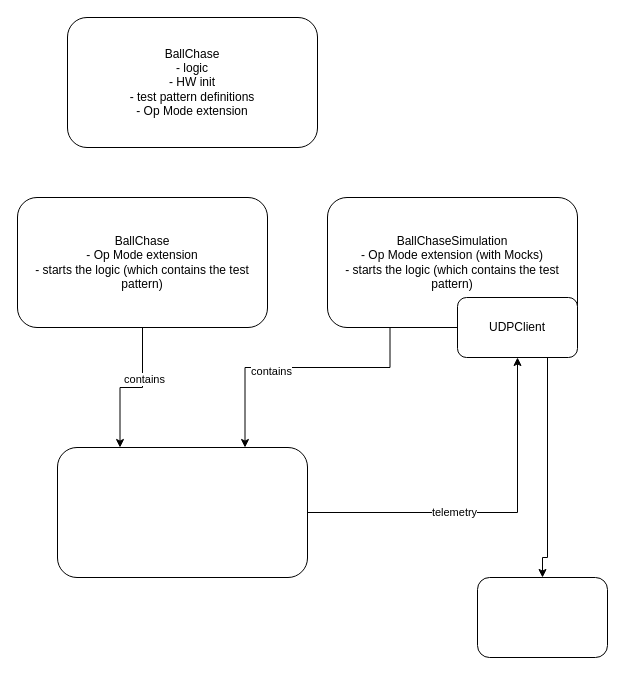
Some shapes in this 625 by 675 pixel diagram are drawn without their labels. The shapes that lost their labels are listed below. From the top down, each one's box as (x1, y1, x2, y2) in pixels, then its label:
(56, 446, 308, 578): BallChaseLogic - Autonomous Logic - HW initialization - Test Pattern Definitions
(476, 576, 608, 658): Vis Engine (Webapp)
